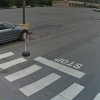crosswalk: (0, 50, 100, 100)
